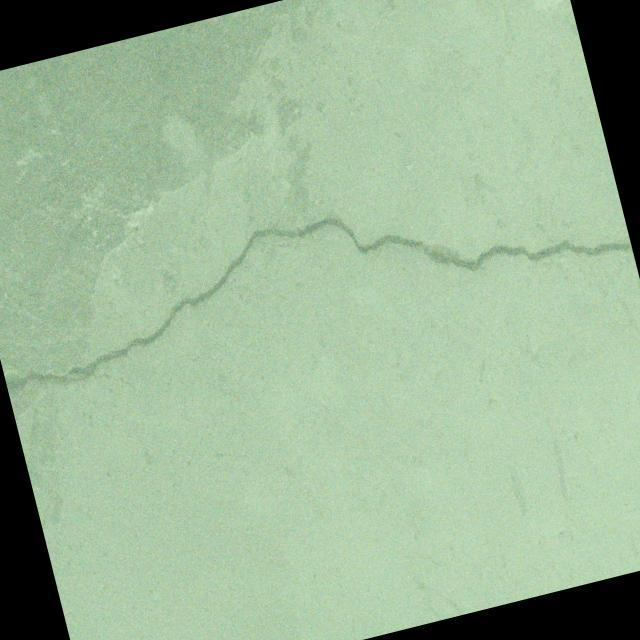crack: (0, 101, 638, 428), (198, 415, 309, 515)
